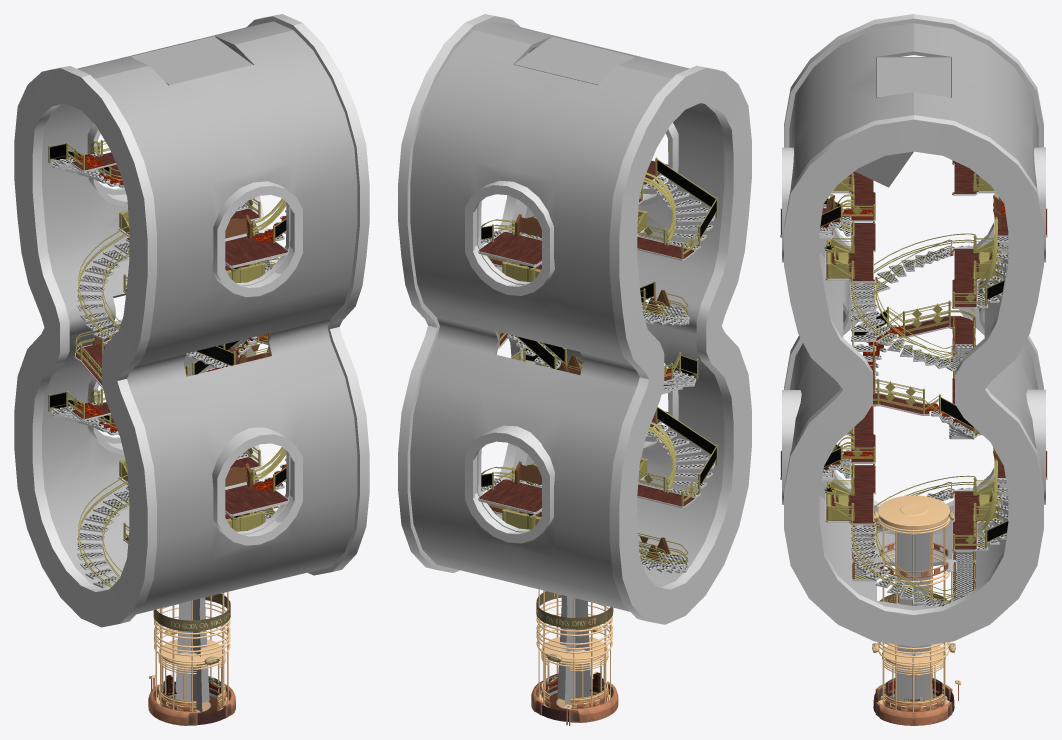
File: Tower_Station_01_Art.fbx
3 views of the same model, side by side, from view 1: azimuth 30°, elevation 25°; view 2: azimuth 150°, elevation 25°; view 3: azimuth 270°, elevation 25° (orthographic). The views are drawn at different scales.
Parts seen in each view (by area): view 1: Tower_Station_01_Art; view 2: Tower_Station_01_Art; view 3: Tower_Station_01_Art.
Part boxes in pixels (x1,y1,x2,y2): Tower_Station_01_Art: (14,14,369,725); Tower_Station_01_Art: (398,14,751,725); Tower_Station_01_Art: (780,14,1047,725).
Size of the model in its own units: 1497 by 4234 by 1600.
